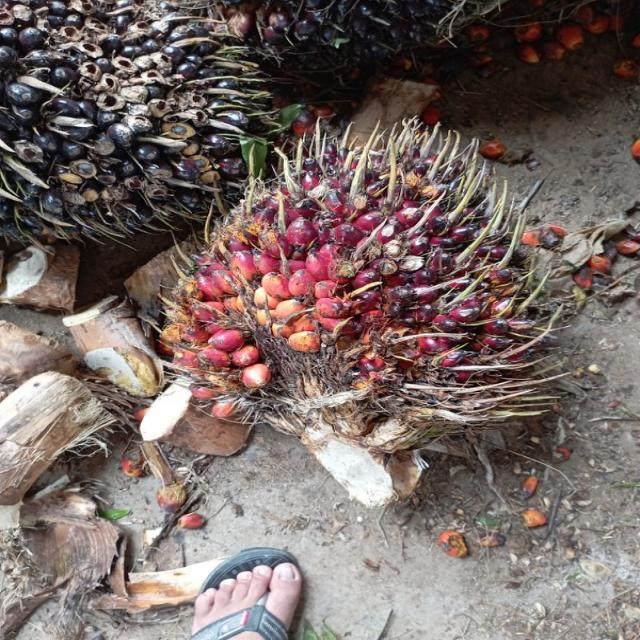fraksi 1: (117, 93, 578, 504)
